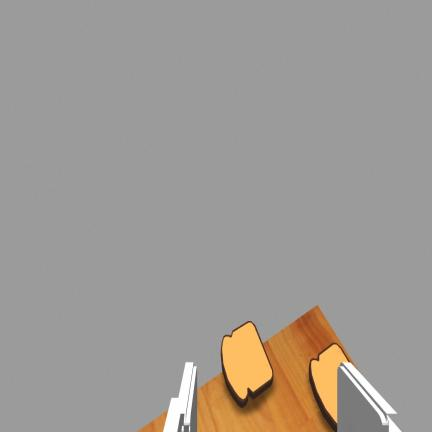sliced_bread: (221, 322, 272, 406), (309, 343, 348, 430)
